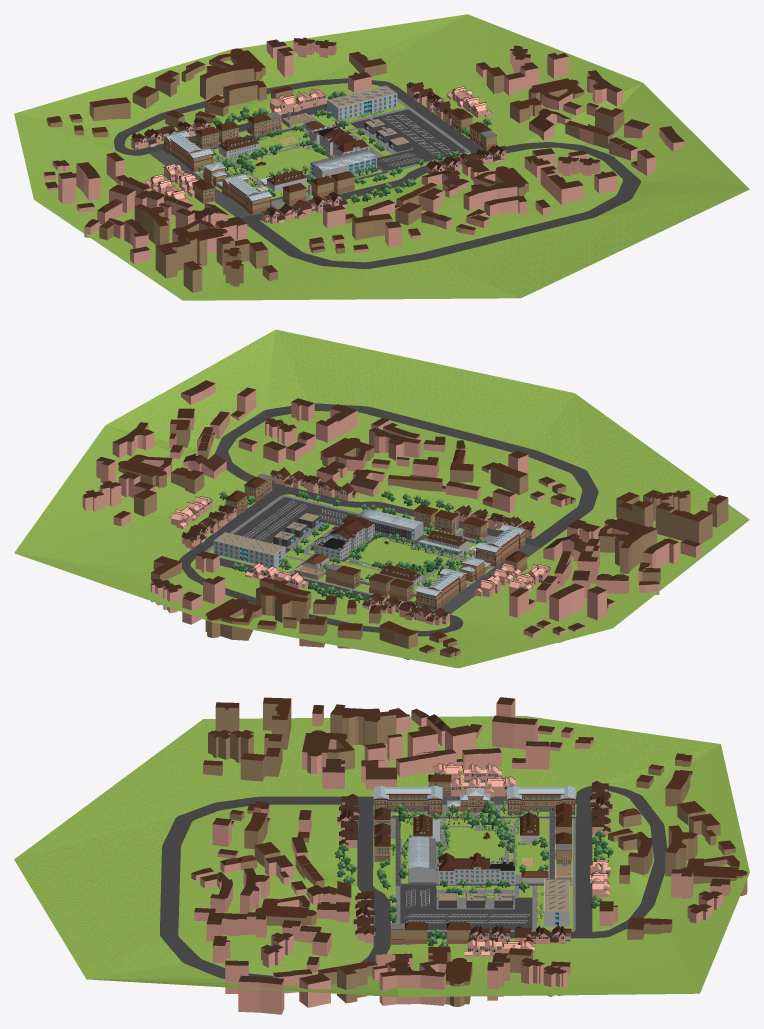
3 views of the same model, one above another, from view 1: azimuth 30°, elevation 25°; view 2: azimuth 150°, elevation 25°; view 3: azimuth 270°, elevation 25° (orthographic). The views are drawn at different scales.
Parts seen in each view (by area): view 1: Ground, Blocks, Blocks.002, CampusBuildings.005, CityBuildings, CityBuildings.002, CityBuildings.004, CityBuildings.003, Studentenwohnheim, CampusBuildings.002, BeegBuilding, Main (+2 smaller); view 2: Ground, Blocks, Blocks.002, CampusBuildings.005, CityBuildings.004, CityBuildings.003, CityBuildings.002, CityBuildings, Studentenwohnheim, CampusBuildings.002, Main, BeegBuilding (+2 smaller); view 3: Ground, Blocks, Blocks.002, CampusBuildings.005, CityBuildings.002, CityBuildings, CityBuildings.003, CityBuildings.004, Main, Trees, CampusBuildings.004, BeegBuilding (+3 smaller).
Boxes of the visible parts, x1=… form: Ground: x1=14, y1=14, x2=749, y2=300; Blocks: x1=43, y1=37, x2=684, y2=263; Blocks.002: x1=46, y1=48, x2=624, y2=292; CampusBuildings.005: x1=149, y1=131, x2=379, y2=217; CityBuildings: x1=163, y1=163, x2=347, y2=223; CityBuildings.002: x1=269, y1=82, x2=458, y2=125; CityBuildings.004: x1=426, y1=86, x2=507, y2=174; CityBuildings.003: x1=130, y1=117, x2=211, y2=203; Studentenwohnheim: x1=327, y1=85, x2=397, y2=120; CampusBuildings.002: x1=195, y1=112, x2=282, y2=149; BeegBuilding: x1=310, y1=149, x2=376, y2=178; Main: x1=310, y1=121, x2=369, y2=156; Ground: x1=14, y1=329, x2=749, y2=668; Blocks: x1=82, y1=380, x2=700, y2=642; Blocks.002: x1=118, y1=419, x2=728, y2=659; CampusBuildings.005: x1=379, y1=505, x2=540, y2=613; CityBuildings.004: x1=170, y1=467, x2=358, y2=529; CityBuildings.003: x1=362, y1=564, x2=550, y2=625; CityBuildings.002: x1=181, y1=504, x2=308, y2=588; CityBuildings: x1=453, y1=505, x2=535, y2=597; Studentenwohnheim: x1=213, y1=532, x2=285, y2=567; CampusBuildings.002: x1=325, y1=563, x2=414, y2=601; Main: x1=314, y1=515, x2=374, y2=560; BeegBuilding: x1=357, y1=508, x2=423, y2=543; Ground: x1=14, y1=716, x2=749, y2=997; Blocks: x1=191, y1=697, x2=730, y2=1014; Blocks.002: x1=203, y1=697, x2=747, y2=1006; CampusBuildings.005: x1=373, y1=774, x2=576, y2=883; CityBuildings.002: x1=468, y1=860, x2=611, y2=945; CityBuildings: x1=337, y1=776, x2=515, y2=847; CityBuildings.003: x1=433, y1=763, x2=612, y2=835; CityBuildings.004: x1=353, y1=891, x2=534, y2=957; Main: x1=439, y1=852, x2=515, y2=884; Trees: x1=391, y1=800, x2=539, y2=859; CampusBuildings.004: x1=390, y1=922, x2=469, y2=944; BeegBuilding: x1=408, y1=836, x2=435, y2=882.
Size of the model in its own units: 695 by 54.26 by 703.
37 materials, 30 textured.
